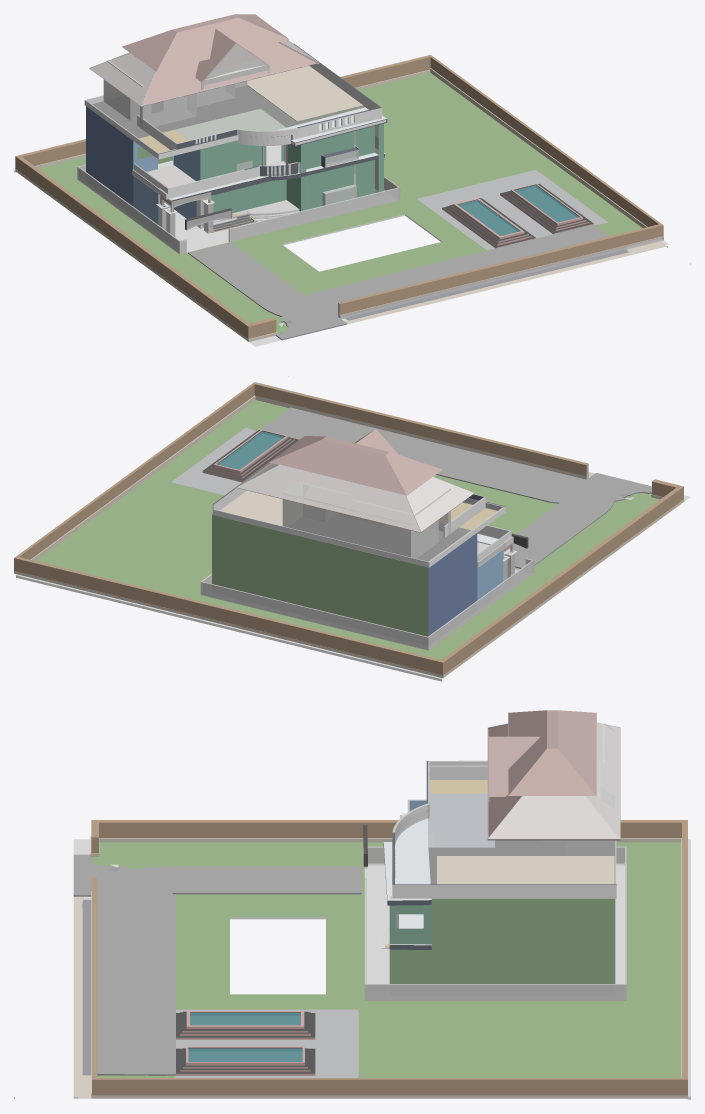
File: 6f782801-5962-452d-a3bf-43bca06e81c9_AutoSave_AutoSave_Untitled_1.glb
3 renders of one model, top to bottom at view 1: azimuth 30°, elevation 25°; view 2: azimuth 150°, elevation 25°; view 3: azimuth 270°, elevation 25°, orthographic. The views are drawn at different scales.
Parts seen in each view (by area): view 1: Node1224, Node1092, Node52, Node1139, Node288, Node1081, Node943, Node72, Node1043, Node6, Node1280, Node56 (+46 smaller); view 2: Node1224, Node1274, Node1092, Node55, Node920, Node1201, Node50, Node1, Node72, Node1043, Node271, Node287 (+33 smaller); view 3: Node1224, Node1271, Node1092, Node51, Node61, Node1081, Node288, Node1139, Node269, Node915, Node272, Node1194 (+35 smaller).
Part boxes in pixels (<box>): Node1224: <box>38,72,642,333</box>; Node1092: <box>291,224,609,321</box>; Node52: <box>340,225,663,315</box>; Node1139: <box>417,170,607,250</box>; Node288: <box>247,66,362,121</box>; Node1081: <box>188,242,304,316</box>; Node943: <box>142,42,316,105</box>; Node72: <box>86,106,133,205</box>; Node1043: <box>17,158,248,338</box>; Node6: <box>156,17,289,71</box>; Node1280: <box>92,85,381,138</box>; Node56: <box>430,57,658,226</box>; Node1224: <box>36,400,659,659</box>; Node1274: <box>212,514,428,636</box>; Node1092: <box>260,407,614,501</box>; Node55: <box>14,558,442,675</box>; Node920: <box>237,465,420,532</box>; Node1201: <box>240,466,419,531</box>; Node50: <box>254,384,586,476</box>; Node1: <box>269,439,406,495</box>; Node72: <box>428,533,477,635</box>; Node1043: <box>445,487,683,673</box>; Node271: <box>200,582,428,650</box>; Node287: <box>289,515,445,557</box>; Node1224: <box>90,842,681,1077</box>; Node1271: <box>389,899,615,983</box>; Node1092: <box>85,872,175,1074</box>; Node51: <box>92,1079,687,1093</box>; Node61: <box>99,822,681,838</box>; Node1081: <box>134,866,361,892</box>; Node288: <box>437,856,614,884</box>; Node1139: <box>175,1009,358,1077</box>; Node269: <box>364,984,626,1000</box>; Node915: <box>488,796,620,839</box>; Node272: <box>367,984,624,999</box>; Node1194: <box>490,796,617,838</box>.
Bounding box in the file's own units: 1914 × 683 × 2110.
